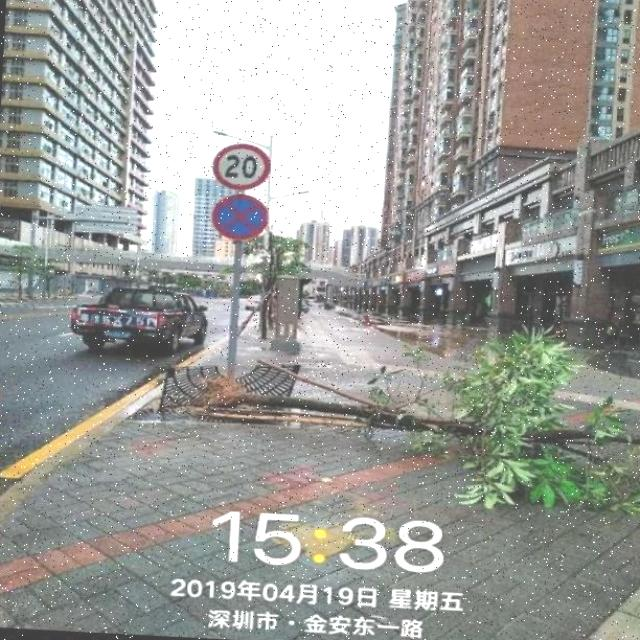fallen_object: (185, 306, 640, 516)
